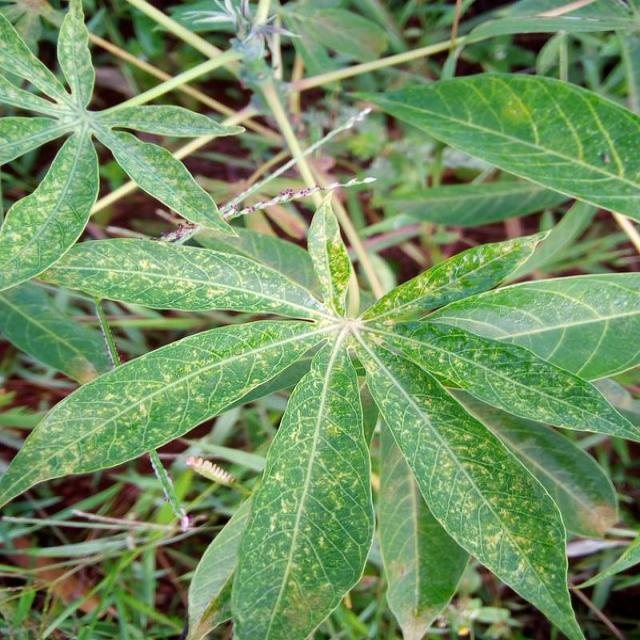cassava leaf: (1, 191, 638, 638), (346, 68, 639, 223), (229, 338, 375, 638)
